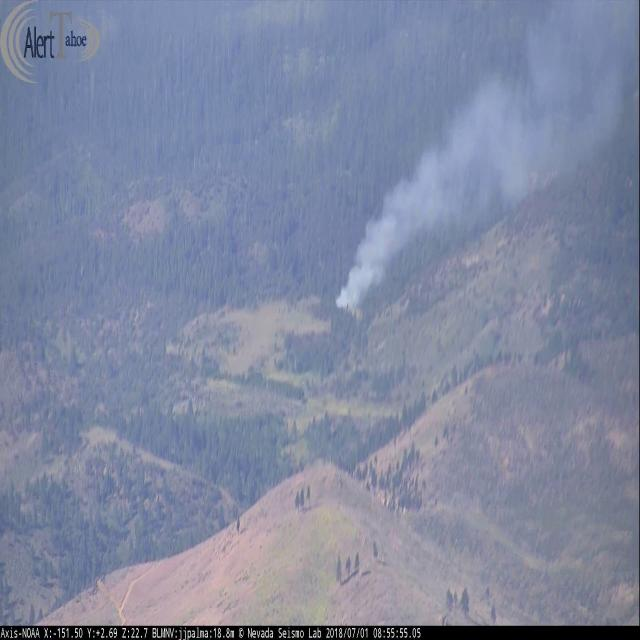smoke: (334, 47, 555, 326)
